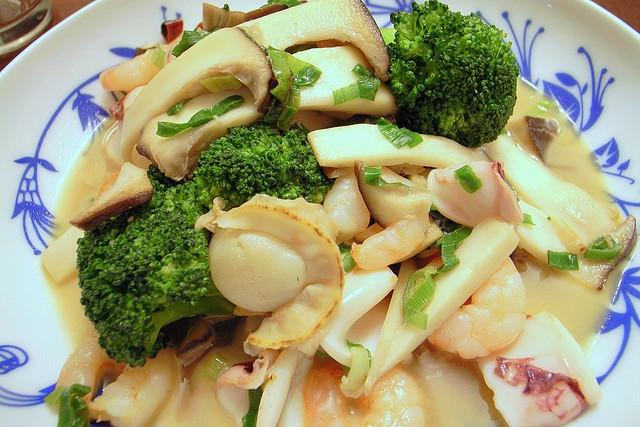broccoli: (76, 172, 236, 368), (380, 0, 520, 149), (192, 123, 336, 211)
green onion: (193, 320, 254, 384), (156, 95, 244, 138), (314, 340, 372, 376), (334, 63, 381, 105), (57, 384, 91, 427), (405, 266, 437, 310), (285, 52, 323, 88), (340, 346, 370, 390), (374, 117, 414, 148), (242, 379, 267, 426), (584, 234, 624, 260), (364, 165, 410, 187), (264, 88, 290, 124), (437, 234, 460, 274), (200, 72, 243, 92), (454, 165, 482, 194), (172, 30, 202, 57), (547, 250, 579, 270), (525, 100, 555, 118), (148, 46, 166, 70), (167, 98, 190, 116), (278, 105, 297, 124), (342, 252, 357, 272), (520, 213, 534, 224)
mushroom: (136, 45, 400, 182), (346, 217, 520, 379), (476, 134, 636, 292), (120, 27, 278, 164), (476, 311, 602, 426), (232, 0, 390, 82), (307, 124, 492, 168), (69, 162, 154, 231), (176, 314, 216, 360), (526, 115, 556, 162), (202, 2, 245, 30)
